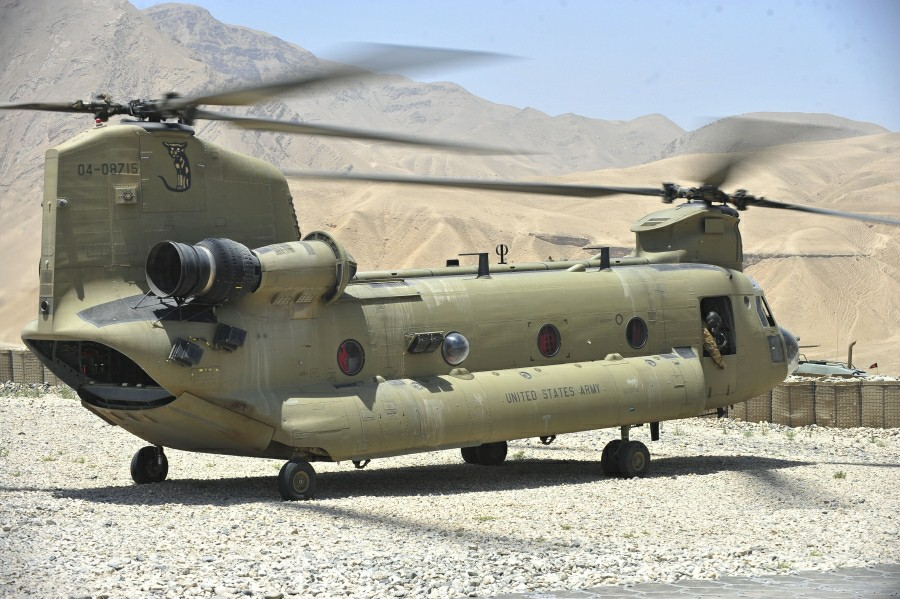chinook: (27, 73, 800, 494)
